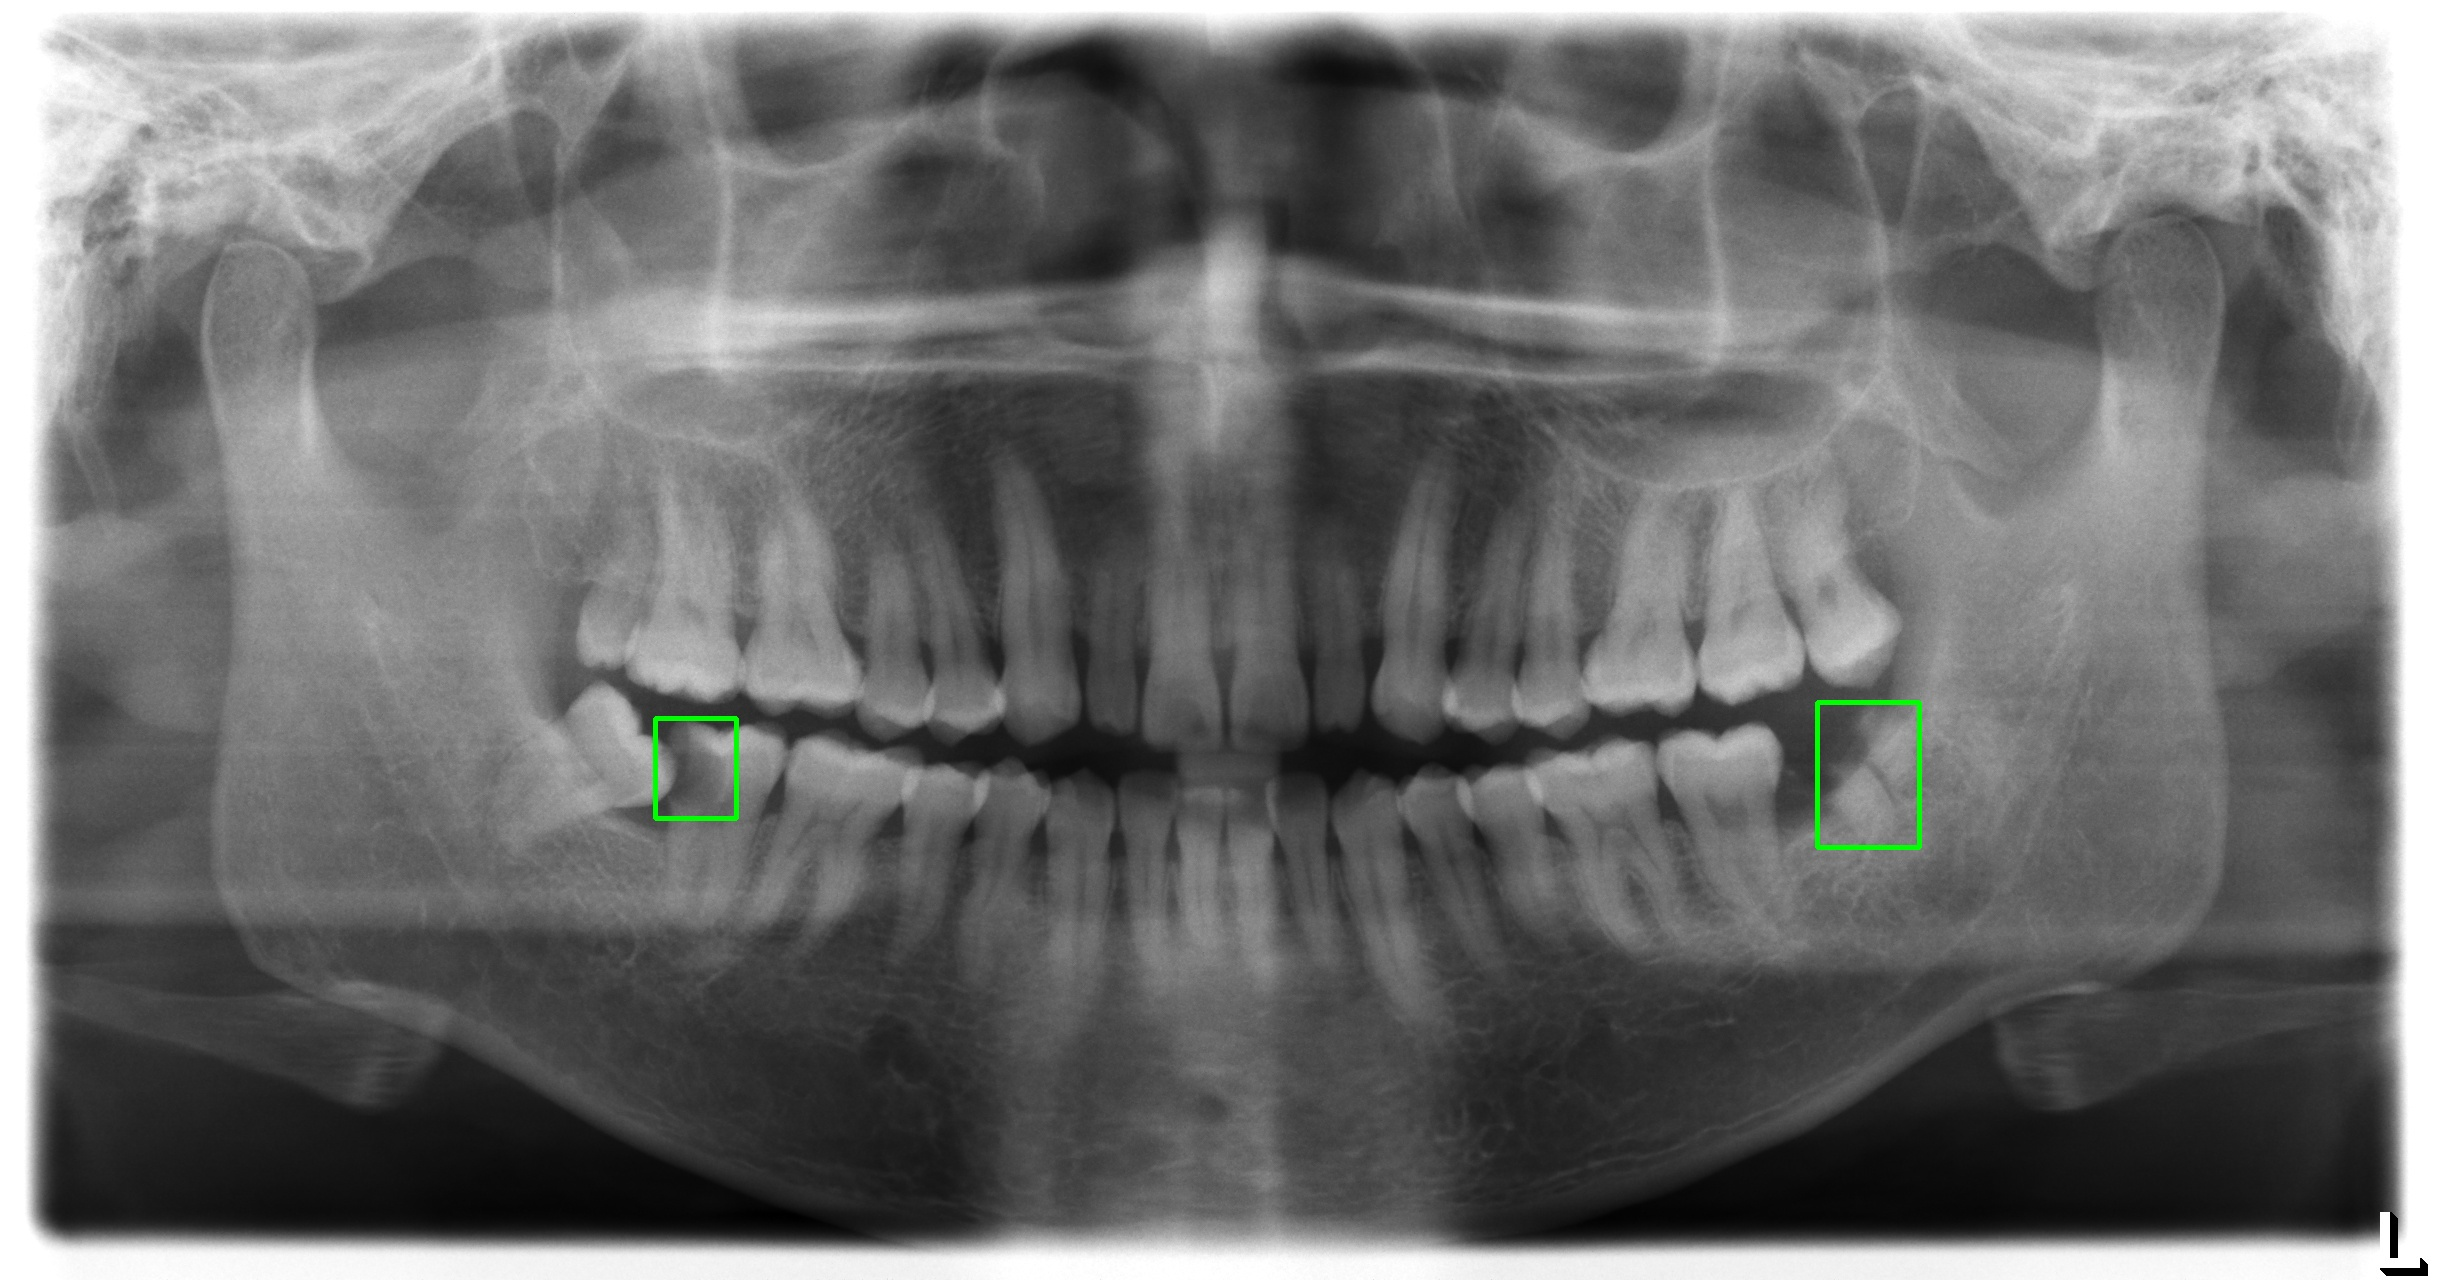Decay: (1817, 701, 1919, 847), (655, 718, 735, 818)
